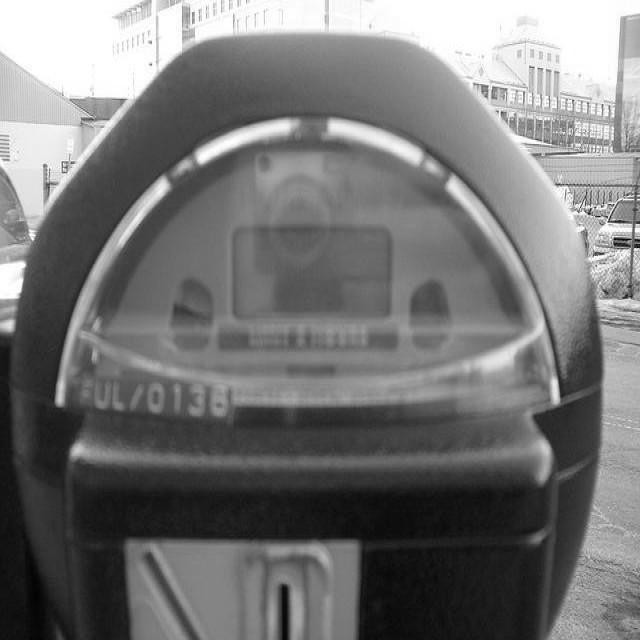vehicle: (0, 155, 33, 470), (593, 192, 640, 258)
